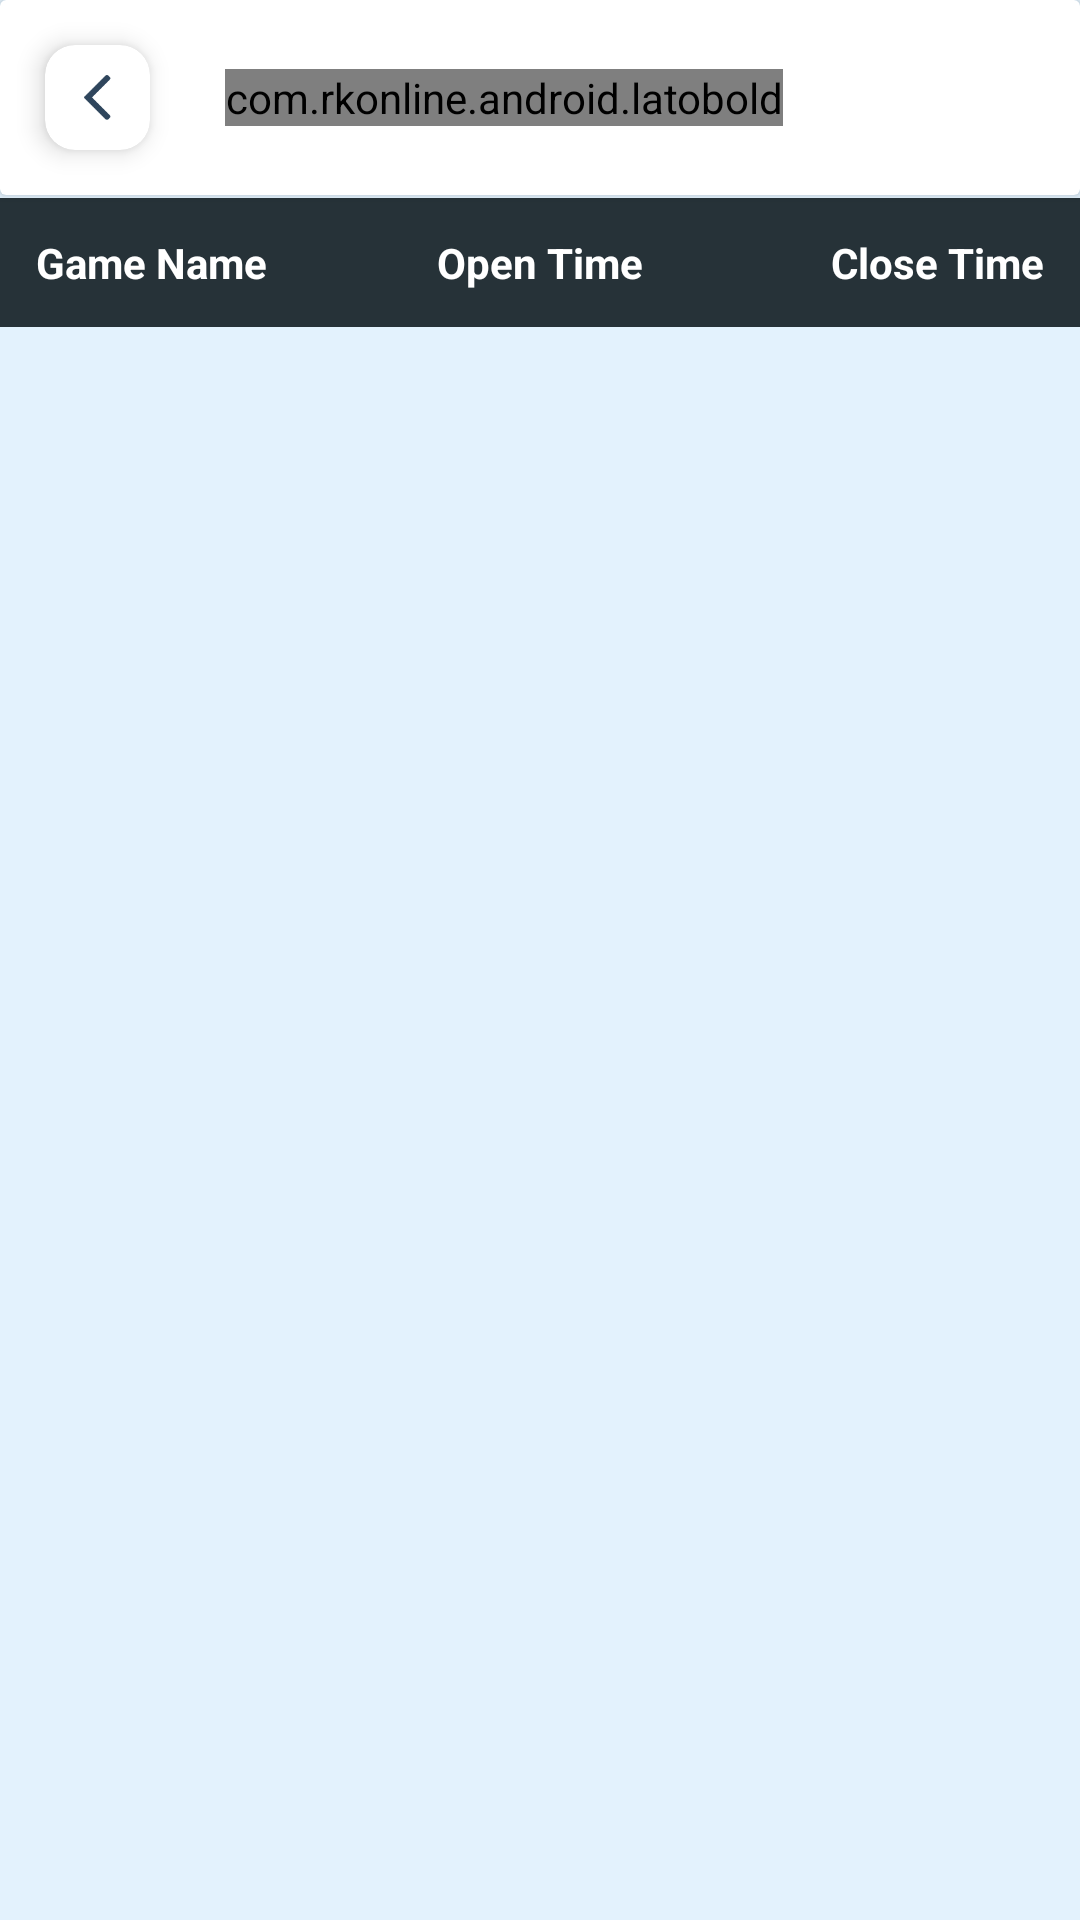

Icons on this 1080*1920 Android screen, each with the point to tap as (x=x, y=y):
back: (x=97, y=97)
